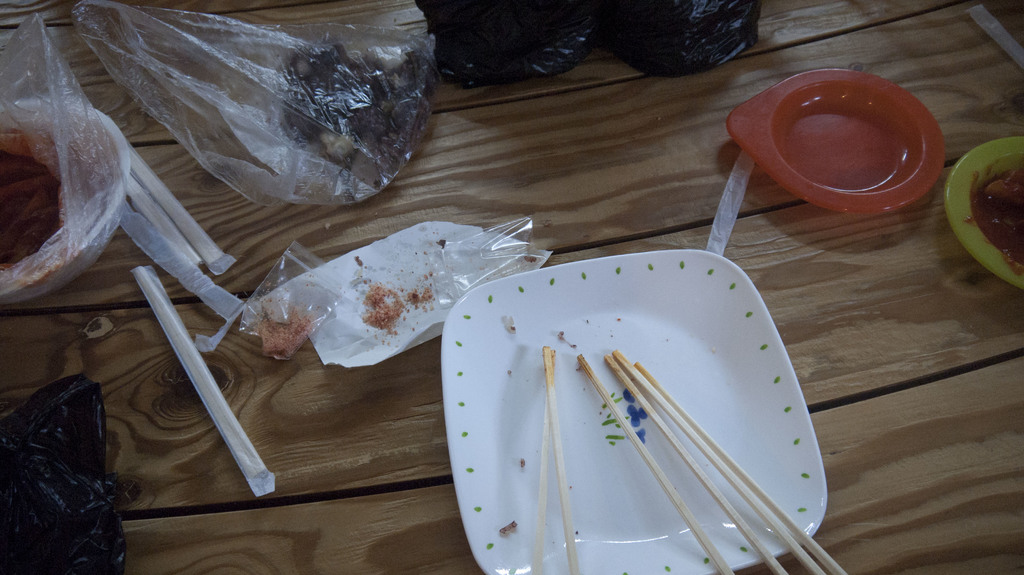plate: (724, 68, 950, 216)
